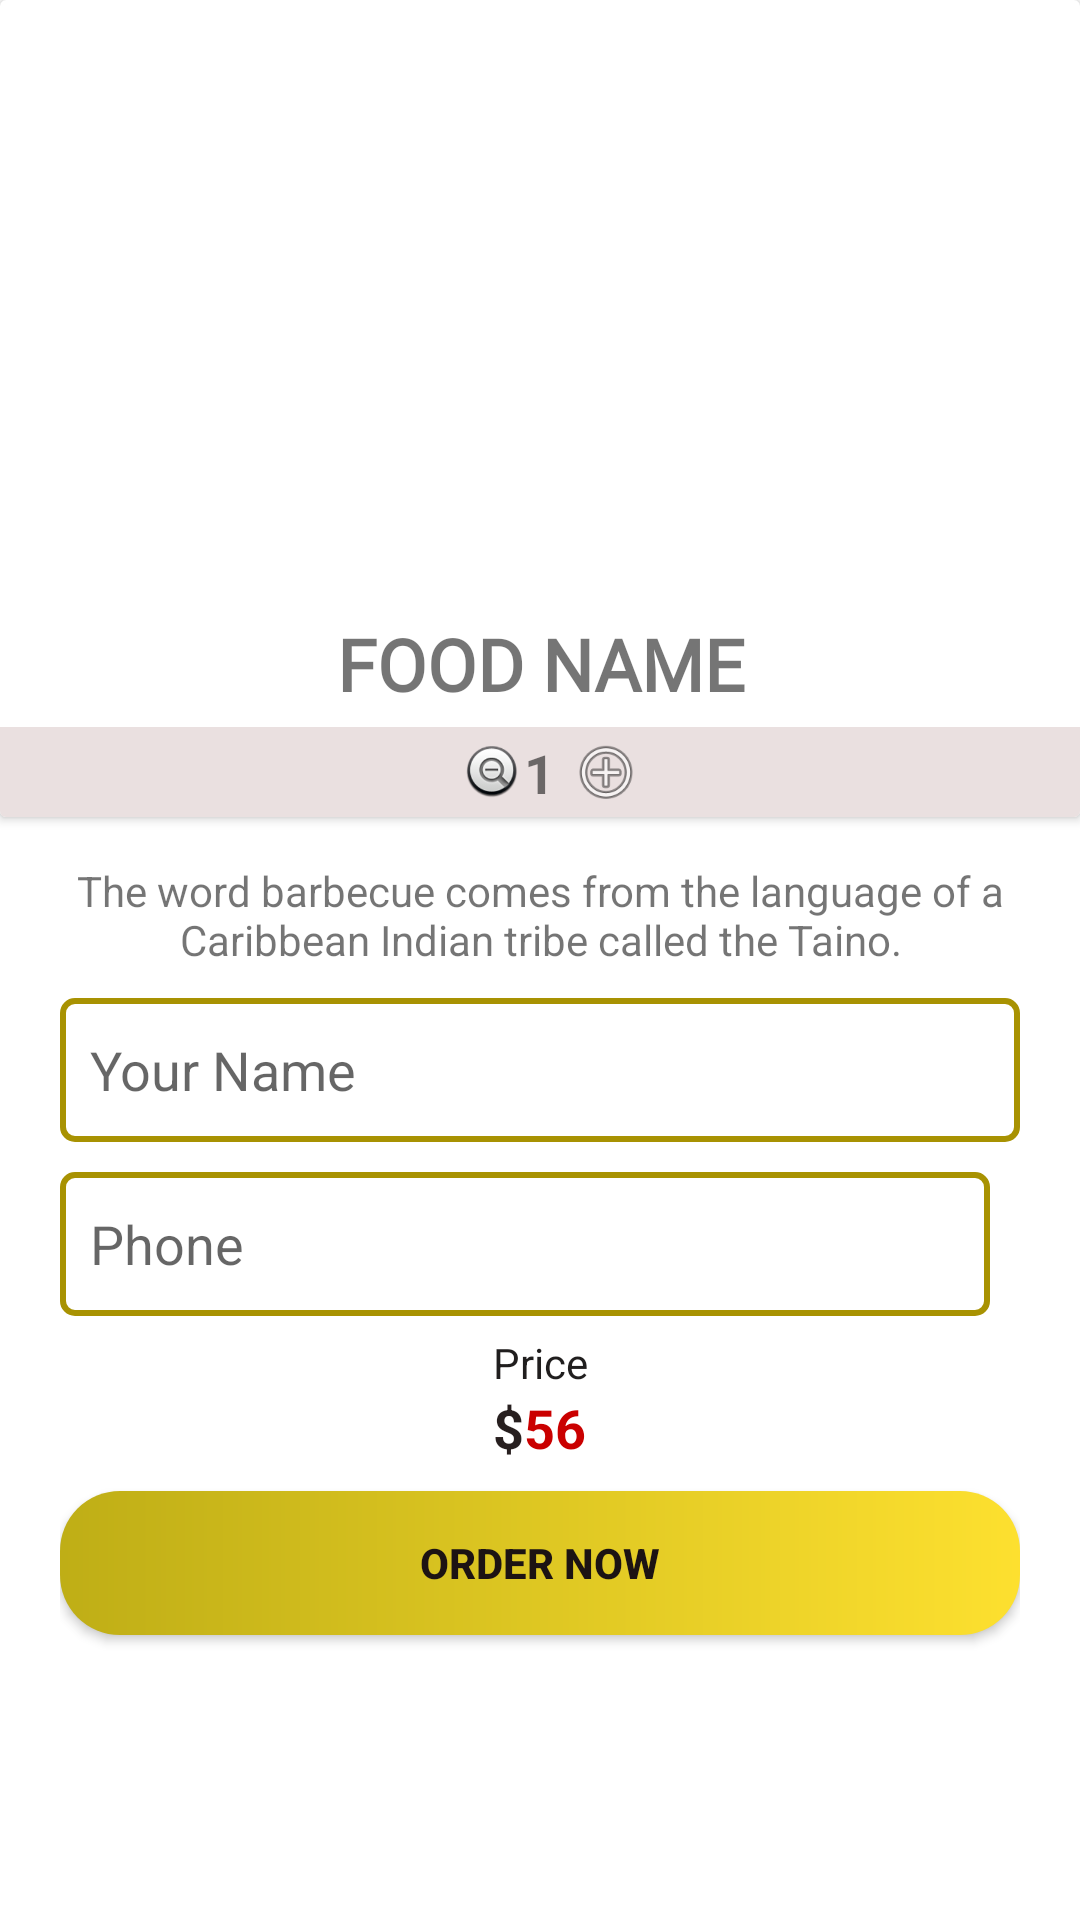

Where to tap for icons on this 1080×1920 app screen, as (x=x, y=y):
add: (x=606, y=772)
minus: (x=491, y=771)
